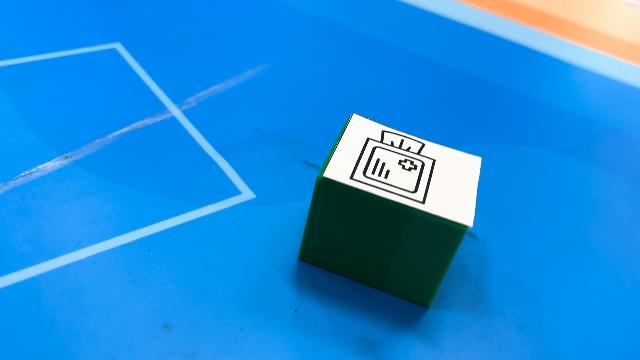napkin: (298, 112, 484, 308)
